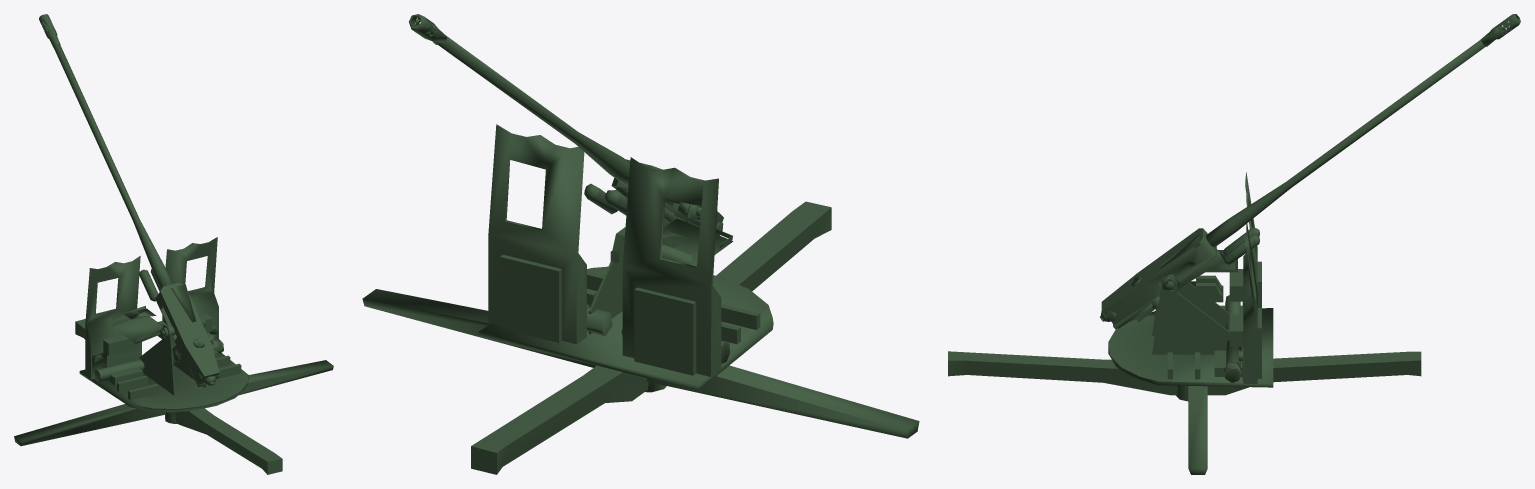
The picture shows the model from 3 angles, left to right: view 1: azimuth 30°, elevation 25°; view 2: azimuth 150°, elevation 25°; view 3: azimuth 270°, elevation 25°; orthographic projection. The views are drawn at different scales.
Visible parts, largest first — view 1: Box004; view 2: Box004; view 3: Box004.
Boxes of the visible parts, left/top/right/bottom form: Box004: left=14, top=14, right=333, bottom=474; Box004: left=362, top=14, right=919, bottom=474; Box004: left=948, top=14, right=1520, bottom=474.
Size of the model in its own units: 7.23 by 6.81 by 9.34.
